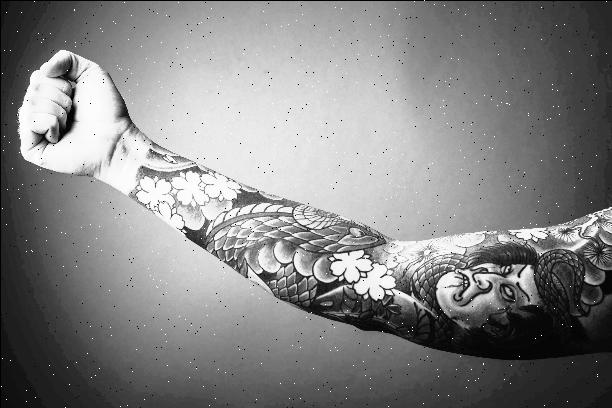Rock: (10, 40, 134, 180)
